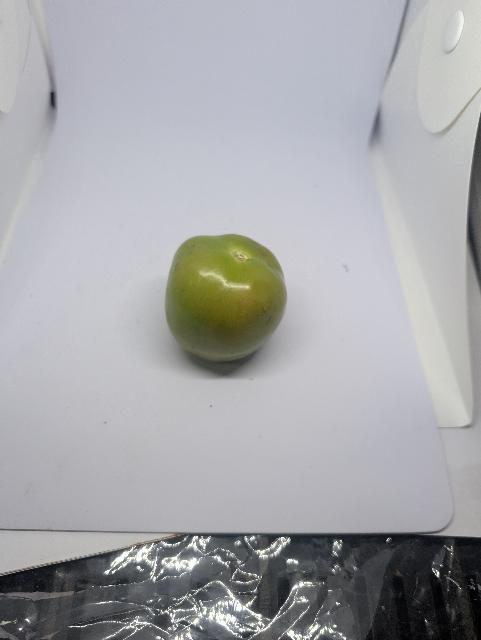green: (163, 233, 290, 365)
